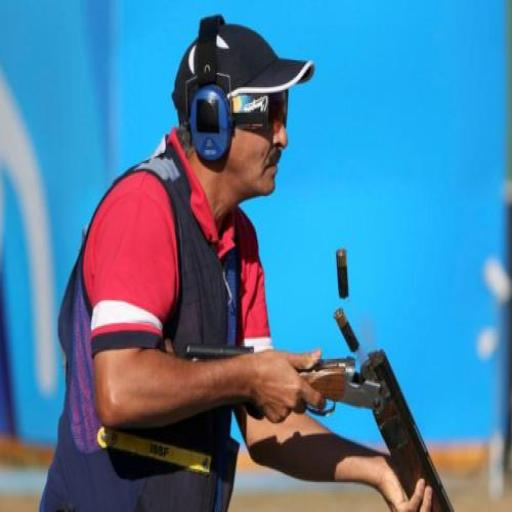shooting: (35, 13, 445, 510)
